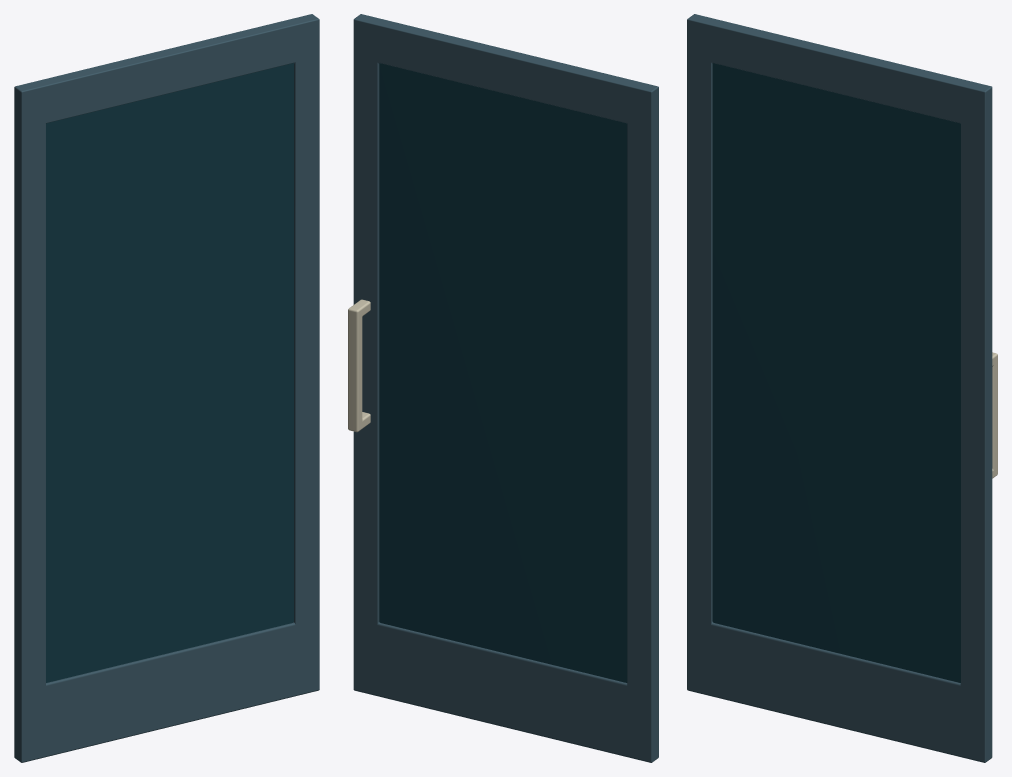
The model's file is city_shop_fittings_06_single.glb.
3 views of the same model, side by side, from view 1: azimuth 30°, elevation 25°; view 2: azimuth 150°, elevation 25°; view 3: azimuth 330°, elevation 25° (orthographic).
Parts seen in each view (by area): view 1: single_leaf_1_glazing, single_leaf_1_stiles_rails; view 2: single_leaf_1_glazing, single_leaf_1_stiles_rails, single_leaf_1_static_pull; view 3: single_leaf_1_glazing, single_leaf_1_stiles_rails, single_leaf_1_static_pull.
Part boxes in pixels (bbox=[...]): single_leaf_1_glazing: bbox=[46, 63, 293, 682]; single_leaf_1_stiles_rails: bbox=[14, 14, 319, 762]; single_leaf_1_glazing: bbox=[379, 63, 627, 682]; single_leaf_1_stiles_rails: bbox=[353, 14, 658, 762]; single_leaf_1_static_pull: bbox=[348, 299, 370, 431]; single_leaf_1_glazing: bbox=[712, 63, 960, 682]; single_leaf_1_stiles_rails: bbox=[687, 14, 992, 762]; single_leaf_1_static_pull: bbox=[992, 352, 997, 478].
Size of the model in its own units: 1.02 by 2.2 by 0.123.
